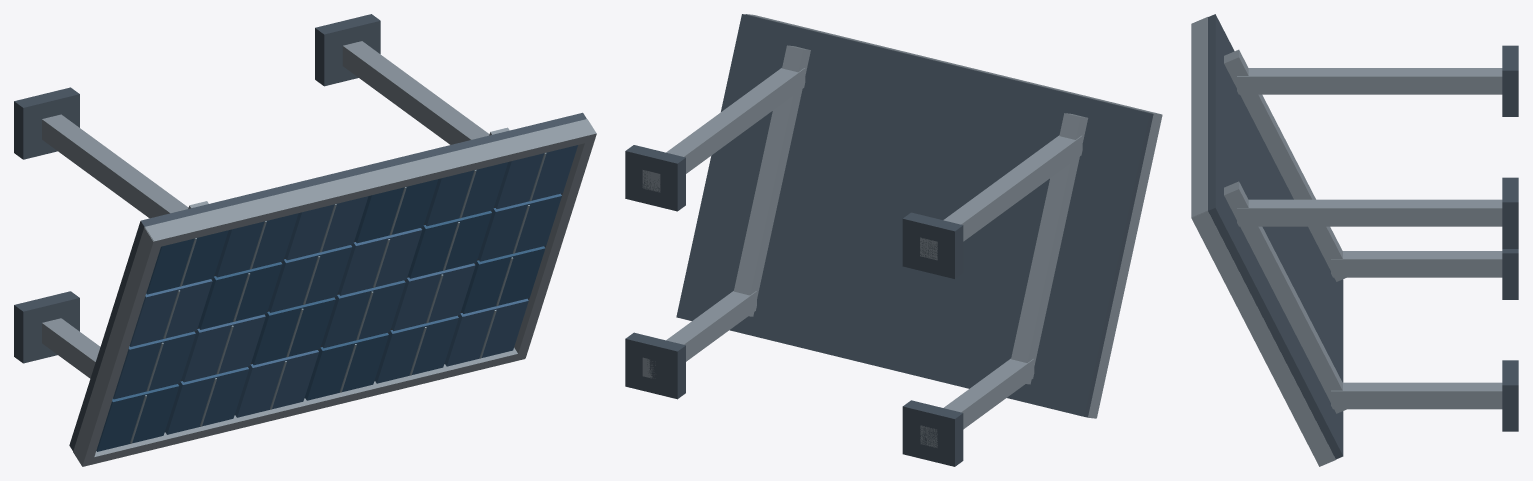
File: powerquest_solar_panel.glb
3 renders of one model, left to right at view 1: azimuth 30°, elevation 25°; view 2: azimuth 150°, elevation 25°; view 3: azimuth 270°, elevation 25°, orthographic. The views are drawn at different scales.
Visible parts, largest first — view 1: frame_end_0.8, frame_side_-1.225, frame_end_-0.8, panel_back, leg_0.85_0.55, leg_-0.85_0.55, frame_side_1.225, cell_4_1, cell_2_2, cell_2_1, cell_5_1, cell_1_2 (+23 smaller); view 2: panel_back, rail_0.85, rail_-0.85, leg_0.85_0.55, leg_-0.85_0.55, foot_-0.85_-0.55, foot_-0.85_0.55, foot_0.85_-0.55, foot_0.85_0.55, frame_side_-1.225, leg_-0.85_-0.55, leg_0.85_-0.55 (+1 smaller); view 3: panel_back, leg_0.85_0.55, leg_-0.85_0.55, frame_side_1.225, leg_0.85_-0.55, leg_-0.85_-0.55, rail_0.85, rail_-0.85, frame_end_0.8, foot_-0.85_0.55, foot_0.85_-0.55, foot_0.85_0.55 (+1 smaller).
Part boxes in pixels (x1,y1,x2,y2): frame_end_0.8: (145,119,596,247); frame_side_-1.225: (73,227,162,466); frame_end_-0.8: (83,347,526,466); panel_back: (69,112,586,451); leg_0.85_0.55: (342,41,489,144); leg_-0.85_0.55: (42,114,188,218); frame_side_1.225: (514,122,596,360); cell_4_1: (391,263,475,331); cell_2_2: (268,245,352,312); cell_2_1: (251,297,335,365); cell_5_1: (461,246,545,313); cell_1_2: (198,262,282,329); panel_back: (676,14,1153,417); rail_0.85: (733,45,810,316); rail_-0.85: (1011,113,1088,384); leg_0.85_0.55: (642,68,805,192); leg_-0.85_0.55: (920,135,1082,260); foot_-0.85_-0.55: (902,400,963,466); foot_-0.85_0.55: (902,212,963,278); foot_0.85_-0.55: (625,332,685,399); foot_0.85_0.55: (625,145,685,211); frame_side_-1.225: (1088,114,1162,418); leg_-0.85_-0.55: (920,358,1034,447); leg_0.85_-0.55: (642,291,756,378); panel_back: (1208,14,1343,459); leg_0.85_0.55: (1237,199,1502,226); leg_-0.85_0.55: (1237,68,1502,94); frame_side_1.225: (1191,211,1335,466); leg_0.85_-0.55: (1331,382,1502,409); leg_-0.85_-0.55: (1331,251,1502,277); rail_0.85: (1224,181,1346,413); rail_-0.85: (1224,49,1346,281); frame_end_0.8: (1191,17,1207,217); foot_-0.85_0.55: (1502,45,1518,116); foot_0.85_-0.55: (1502,360,1518,431); foot_0.85_0.55: (1502,177,1518,248).
Bounding box in the file's own units: 2.51 × 1.56 × 1.79.
